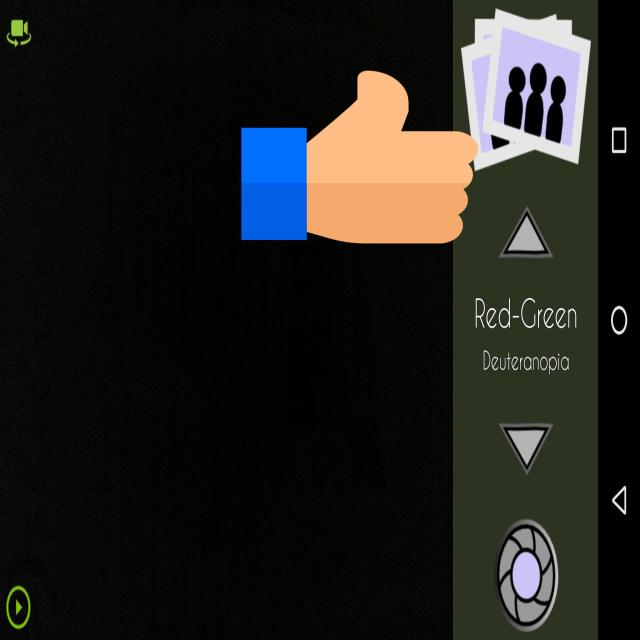privacy zuckering: (241, 66, 478, 248)
